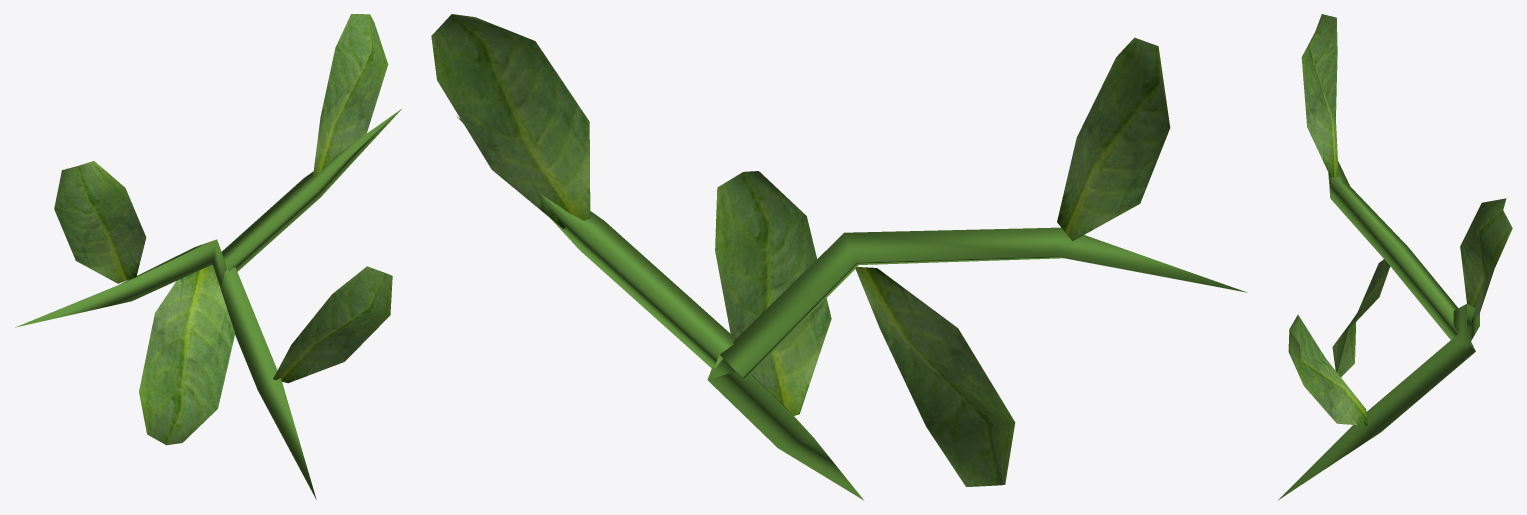
The model's file is polygonum_06.obj.
The picture shows the model from 3 angles, left to right: view 1: azimuth 30°, elevation 25°; view 2: azimuth 150°, elevation 25°; view 3: azimuth 270°, elevation 25°; orthographic projection. The views are drawn at different scales.
Visible parts, largest first — view 1: polygonum.005; view 2: polygonum.005; view 3: polygonum.005.
Part boxes in pixels (bbox=[...]): polygonum.005: bbox=[15, 14, 401, 499]; polygonum.005: bbox=[431, 14, 1247, 500]; polygonum.005: bbox=[1278, 14, 1512, 500].
Bounding box in the file's own units: 0.1418 × 0.1104 × 0.0619.
